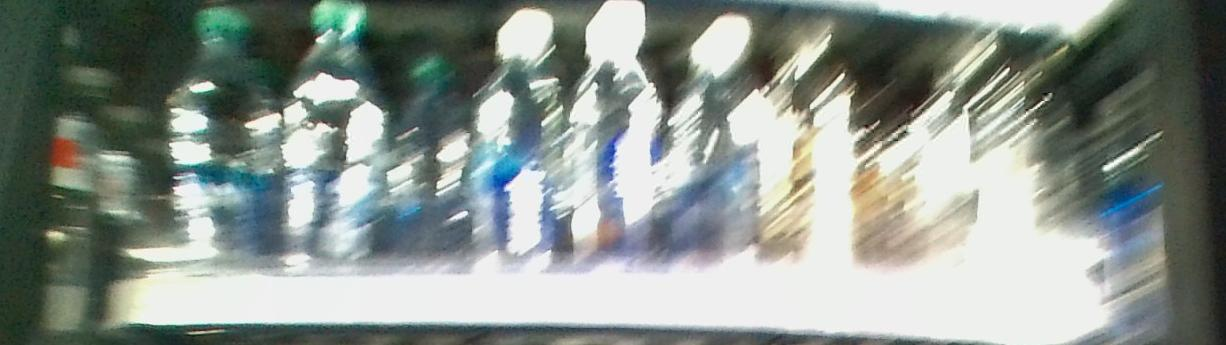bottle: (167, 6, 276, 272), (285, 4, 391, 271), (571, 7, 658, 264), (472, 16, 562, 261), (396, 43, 463, 267)
